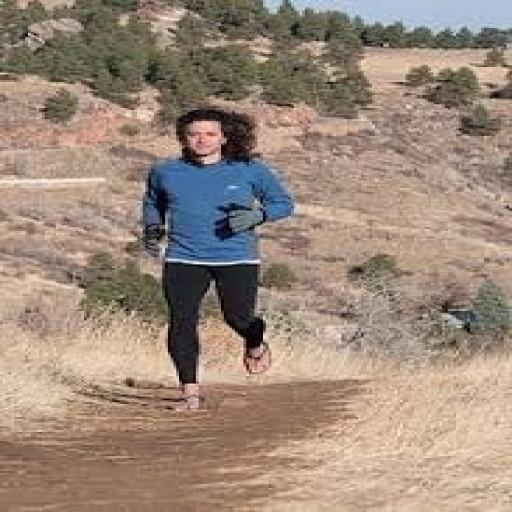running: (134, 106, 300, 413)
